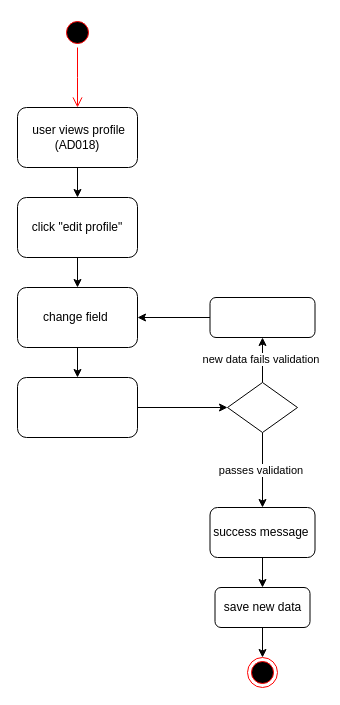
Some shapes in this 340 by 705 pixel diagram are drawn without their labels. Each missing label, with the box of its shape:
error message: (209, 296, 315, 338)
submit changes: (16, 376, 138, 438)
